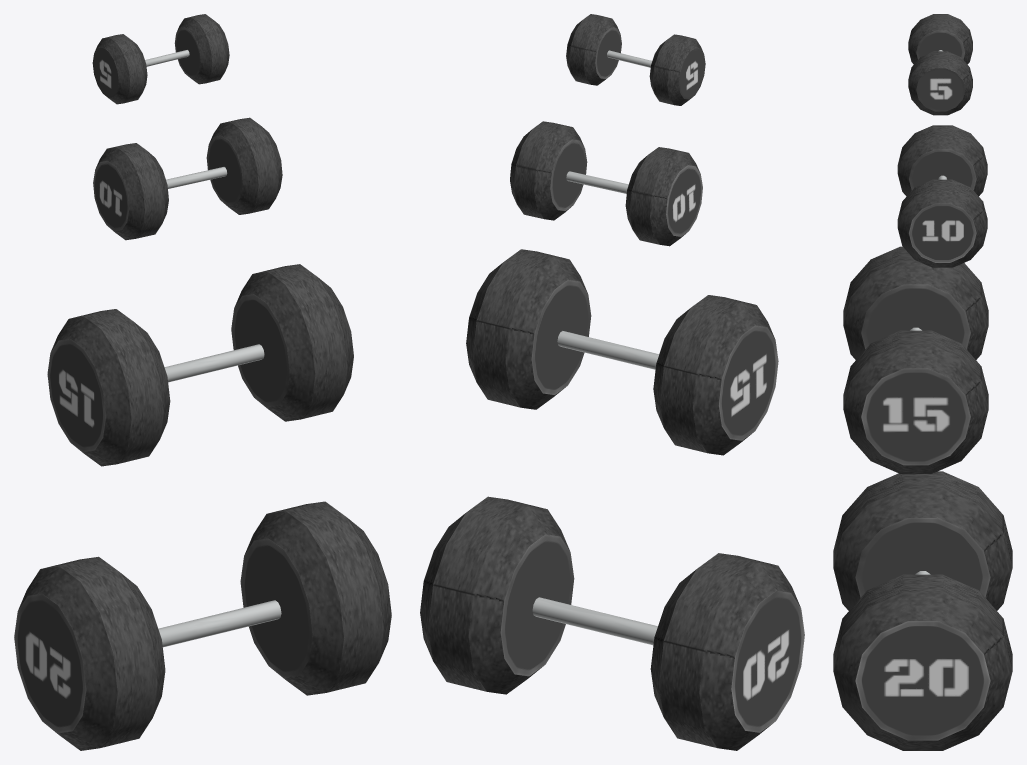
The model's file is dumbells.fbx.
3 renders of one model, left to right at view 1: azimuth 30°, elevation 25°; view 2: azimuth 150°, elevation 25°; view 3: azimuth 270°, elevation 25°, orthographic. The views are drawn at different scales.
Visible parts, largest first — view 1: kg_twenty, kg15, kg_ten, kg_five; view 2: kg_twenty, kg15, kg_ten, kg_five; view 3: kg_twenty, kg15, kg_ten, kg_five.
Part boxes in pixels (left/top/right/bottom): kg_twenty: left=14, top=501, right=391, bottom=750; kg15: left=47, top=264, right=353, bottom=466; kg_ten: left=93, top=117, right=282, bottom=240; kg_five: left=92, top=14, right=229, bottom=104; kg_twenty: left=420, top=496, right=804, bottom=750; kg15: left=466, top=249, right=778, bottom=455; kg_ten: left=510, top=121, right=702, bottom=246; kg_five: left=566, top=14, right=705, bottom=105; kg_twenty: left=833, top=471, right=1012, bottom=750; kg15: left=843, top=246, right=988, bottom=473; kg_ten: left=897, top=125, right=987, bottom=267; kg_five: left=908, top=14, right=972, bottom=115.
Size of the model in its own units: 88.63 by 189 by 48.05.
